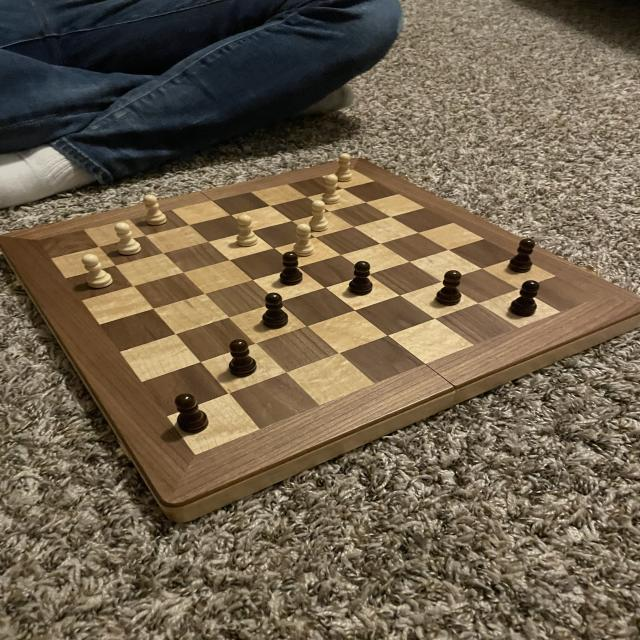black-knight: (168, 389, 212, 435), (257, 290, 297, 332), (223, 338, 262, 378), (505, 233, 539, 276), (507, 276, 540, 320), (431, 268, 466, 308), (276, 247, 309, 287), (345, 259, 376, 297)
white-knight: (77, 252, 116, 290), (109, 220, 146, 258), (287, 222, 323, 260), (138, 192, 172, 228), (231, 211, 263, 249), (317, 173, 347, 207), (305, 198, 331, 235), (333, 150, 357, 184)
